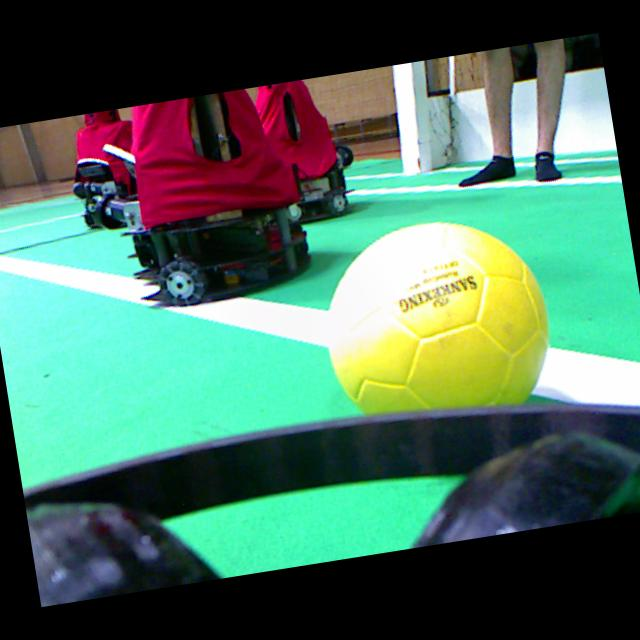ball: (330, 223, 548, 414)
goal: (392, 63, 420, 174)
